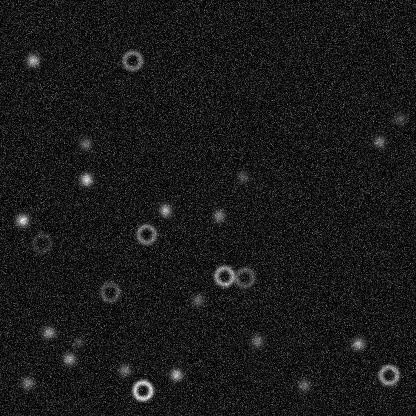Ring: (212, 263, 236, 287), (376, 362, 400, 386), (29, 231, 53, 255), (97, 280, 121, 304), (232, 265, 256, 289), (134, 222, 158, 246), (130, 378, 154, 402), (120, 48, 144, 72)
Spot: (157, 202, 173, 218), (61, 350, 77, 366), (391, 110, 407, 126), (77, 135, 93, 151), (78, 171, 94, 187), (296, 376, 312, 392), (40, 324, 56, 340), (14, 212, 30, 228), (248, 332, 264, 348), (234, 168, 250, 184), (350, 335, 366, 351), (70, 334, 86, 350), (371, 133, 387, 149), (24, 52, 40, 68), (19, 374, 35, 390), (189, 292, 205, 308), (116, 361, 132, 377), (168, 366, 184, 382), (210, 207, 226, 223)
